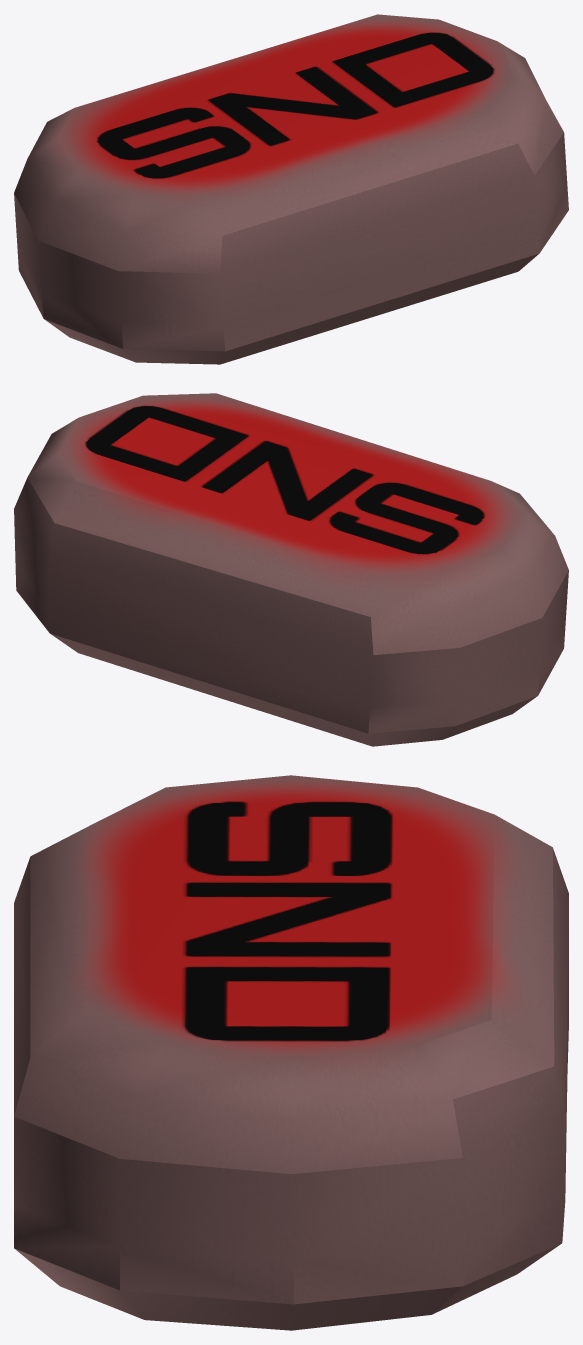
The model's file is SND_button.glb.
The picture shows the model from 3 angles, top to bottom: view 1: azimuth 30°, elevation 25°; view 2: azimuth 150°, elevation 25°; view 3: azimuth 270°, elevation 25°; orthographic projection. The views are drawn at different scales.
Visible parts, largest first — view 1: SND_button; view 2: SND_button; view 3: SND_button.
Boxes of the visible parts, <box> form: SND_button: <box>14,14,568,364</box>; SND_button: <box>14,393,568,746</box>; SND_button: <box>14,775,568,1330</box>.
Bounding box in the file's own units: 0.00221 × 0.00081 × 0.00132.
Materials: 1 (1 with a texture image).
